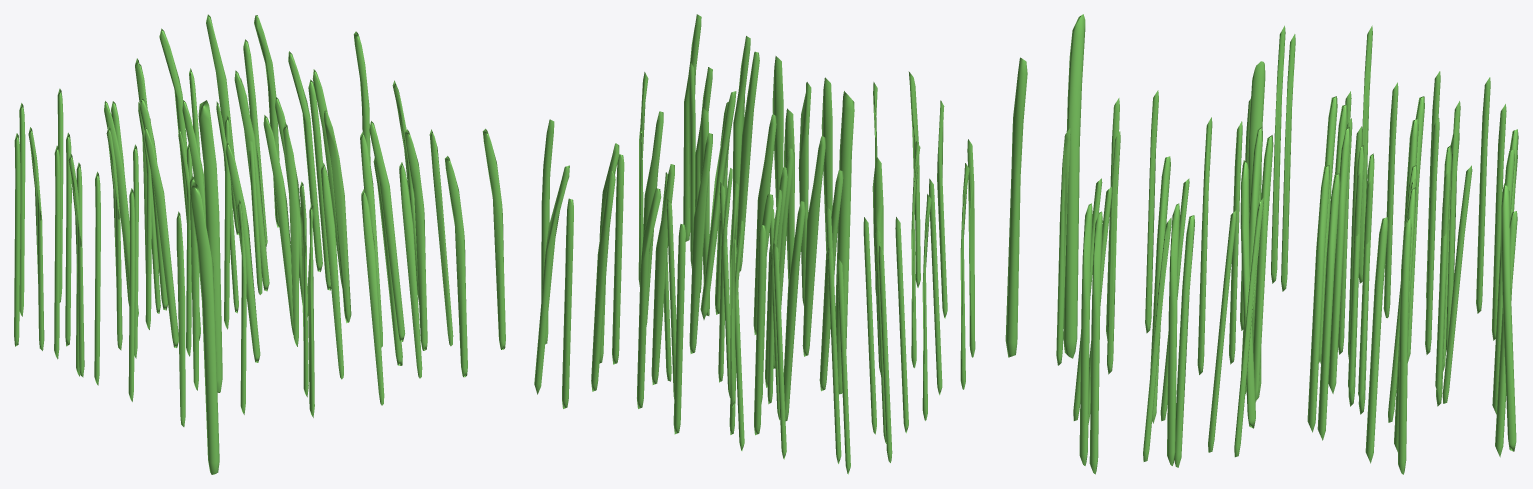
Rendered from wheat_middle.glb.
3 renders of one model, left to right at view 1: azimuth 30°, elevation 25°; view 2: azimuth 150°, elevation 25°; view 3: azimuth 270°, elevation 25°, orthographic. The views are drawn at different scales.
Visible parts, largest first — view 1: Cube.002; view 2: Cube.002; view 3: Cube.002.
Part boxes in pixels (x1,y1,x2,y2): Cube.002: (14,14,505,474); Cube.002: (534,14,1027,474); Cube.002: (1056,14,1518,474).
Size of the model in its own units: 3.42 by 2.71 by 3.35.
